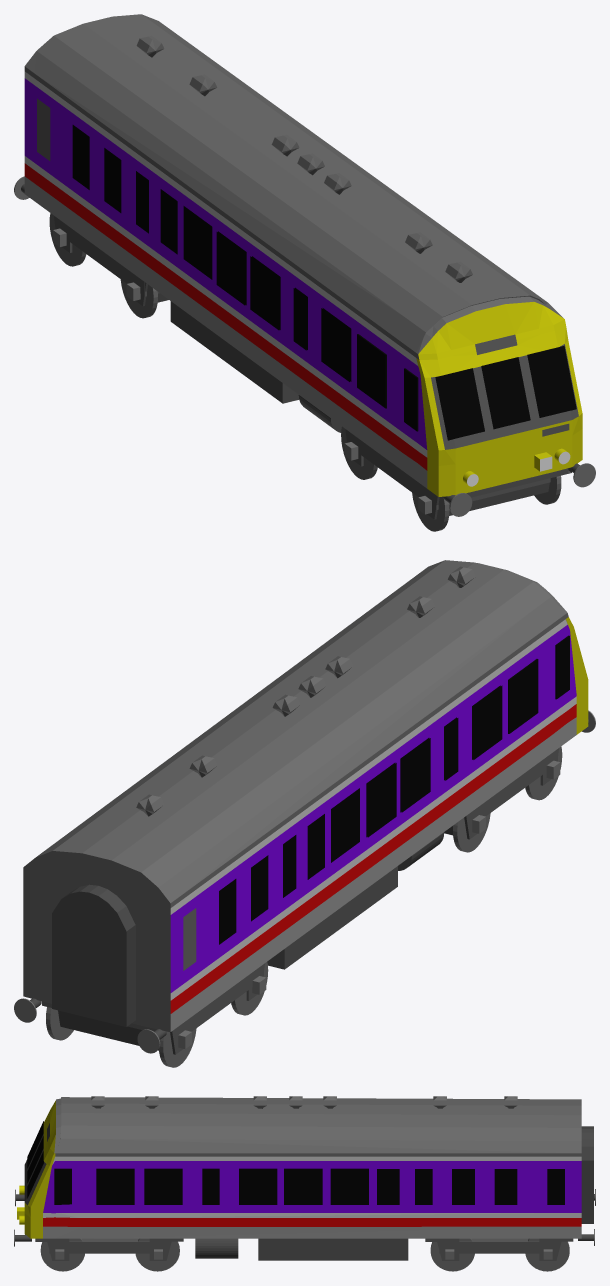
The model's file is BR-101-dmbs-nse-new.dae.
3 renders of one model, top to bottom at view 1: azimuth 30°, elevation 25°; view 2: azimuth 150°, elevation 25°; view 3: azimuth 270°, elevation 25°, orthographic. The views are drawn at different scales.
Visible parts, largest first — view 1: BR-cl101-front_rear, Cube_001, Cube_043, Cube_043_001, Cube_061, Cylinder_009; view 2: BR-cl101-front_rear, Cube, Cube_001, Cube_060_001, Cube_043_001, Cube_043, Cylinder_008_001, Cylinder_008; view 3: BR-cl101-front_rear, Cube_001, Cube_043, Cube_043_001, Cube, Cylinder_002, Cylinder_011_001, Cylinder_011, Cylinder_010_001, Cylinder_010, Cube_061_001, Cube_061 (+2 smaller).
Part boxes in pixels (x1,y1,x2,y2): BR-cl101-front_rear: [24, 14, 582, 497]; Cube_001: [170, 301, 298, 403]; Cube_043: [361, 441, 550, 509]; Cube_043_001: [70, 227, 159, 296]; Cube_061: [427, 482, 549, 519]; Cylinder_009: [412, 492, 449, 531]; BR-cl101-front_rear: [23, 560, 588, 1032]; Cube: [52, 884, 135, 1026]; Cube_001: [267, 866, 397, 969]; Cube_060_001: [42, 1001, 188, 1054]; Cube_043_001: [188, 964, 263, 1031]; Cube_043: [482, 749, 557, 816]; Cylinder_008_001: [159, 1028, 196, 1067]; Cylinder_008: [453, 813, 490, 852]; BR-cl101-front_rear: [24, 1096, 581, 1238]; Cube_001: [258, 1238, 408, 1260]; Cube_043: [49, 1238, 168, 1253]; Cube_043_001: [439, 1238, 557, 1253]; Cube: [581, 1126, 593, 1223]; Cylinder_002: [195, 1238, 238, 1258]; Cylinder_011_001: [525, 1238, 569, 1271]; Cylinder_011: [135, 1238, 179, 1271]; Cylinder_010_001: [430, 1238, 474, 1271]; Cylinder_010: [40, 1238, 84, 1271]; Cube_061_001: [425, 1238, 459, 1260]; Cube_061: [35, 1238, 69, 1260].
Size of the model in its own units: 2.04 by 10.32 by 3.05.
